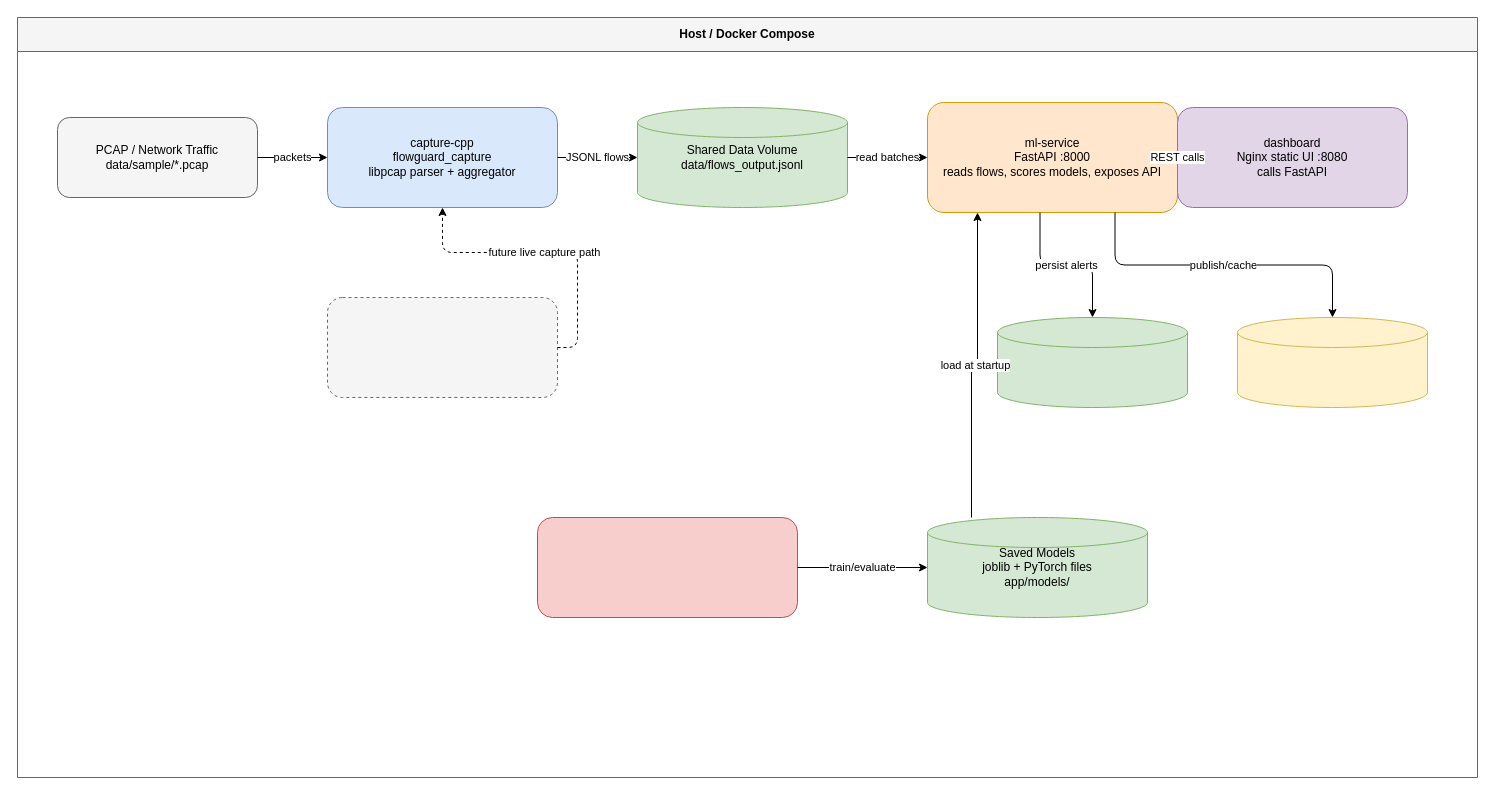
Image size: 1495x795. Some labels were removed from this diagram. The box of each missing label's shape, as (x1, y1, x2, y2) in pixels:
Offline Training CICIDS / real data scripts write model artifacts: (536, 516, 798, 618)
Optional eBPF/XDP Path capture-ebpf loader + filter experimental / benchmark: (326, 296, 558, 398)
PostgreSQL Flow, Alert, ThreatIntelEntry: (996, 316, 1188, 408)
Redis alert publish + recent count cache: (1236, 316, 1428, 408)
